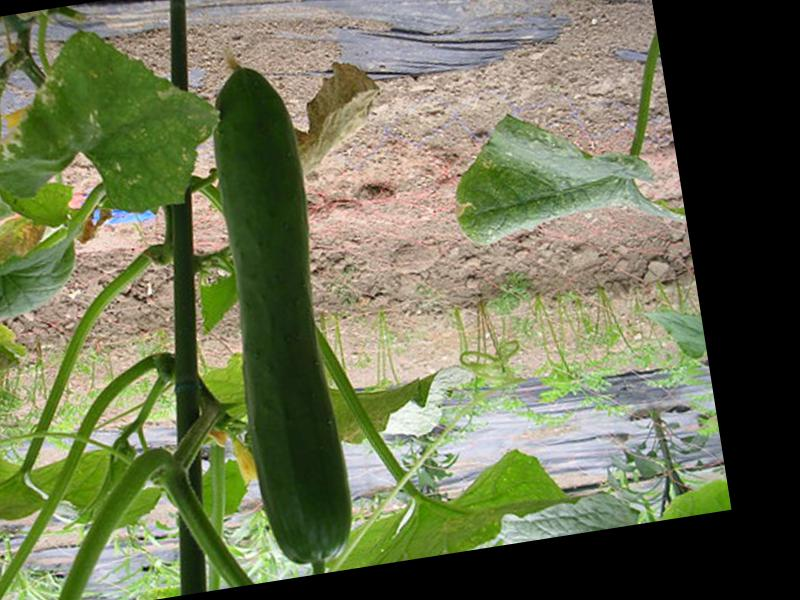Cucumber: (190, 48, 361, 569)
